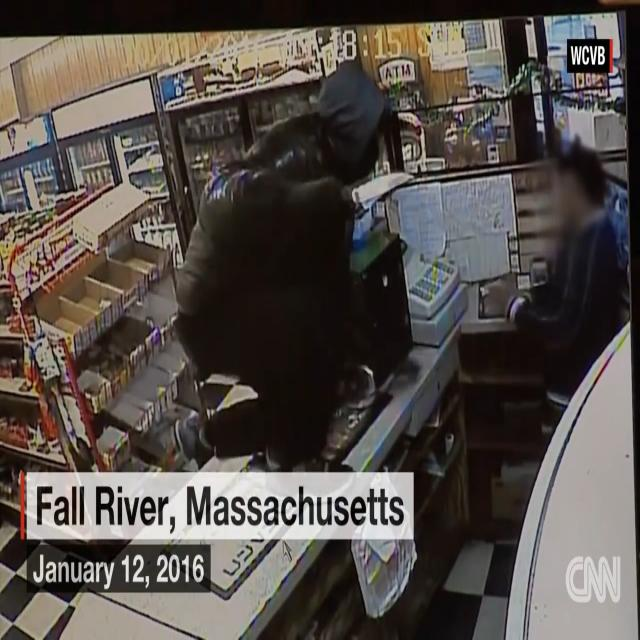Sharp-Object: (342, 167, 414, 211)
Violence: (176, 62, 418, 474)
